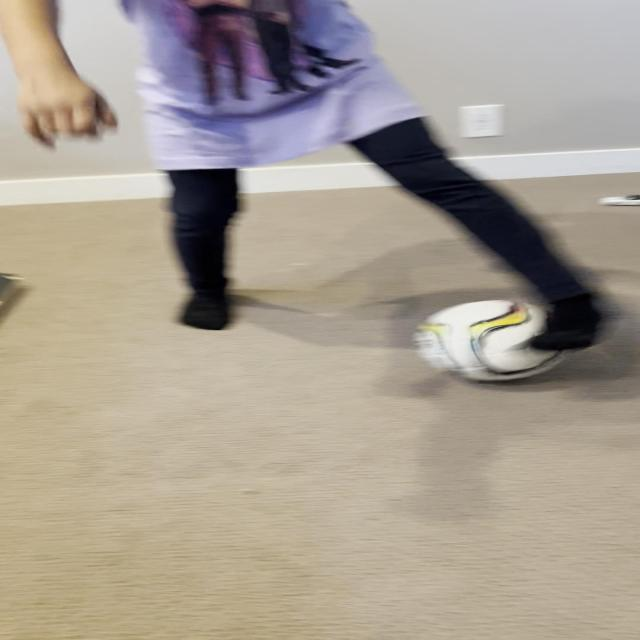Soccer Ball: (415, 299, 569, 381)
